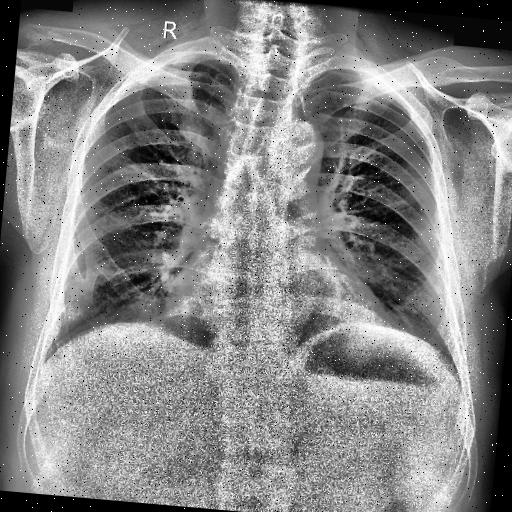0- Aortic enlargement: (268, 120, 326, 178), (270, 117, 325, 176), (273, 121, 323, 180)
3- Cardiomegaly: (164, 264, 408, 363)
8- Nodule-Mass: (64, 302, 84, 320)
9- Other lesion: (76, 244, 102, 310), (80, 252, 103, 300)
